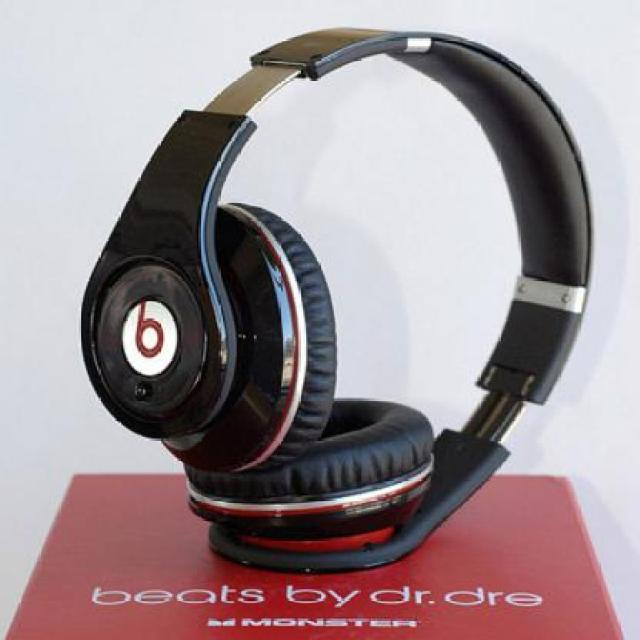earphone: (78, 0, 596, 566)
